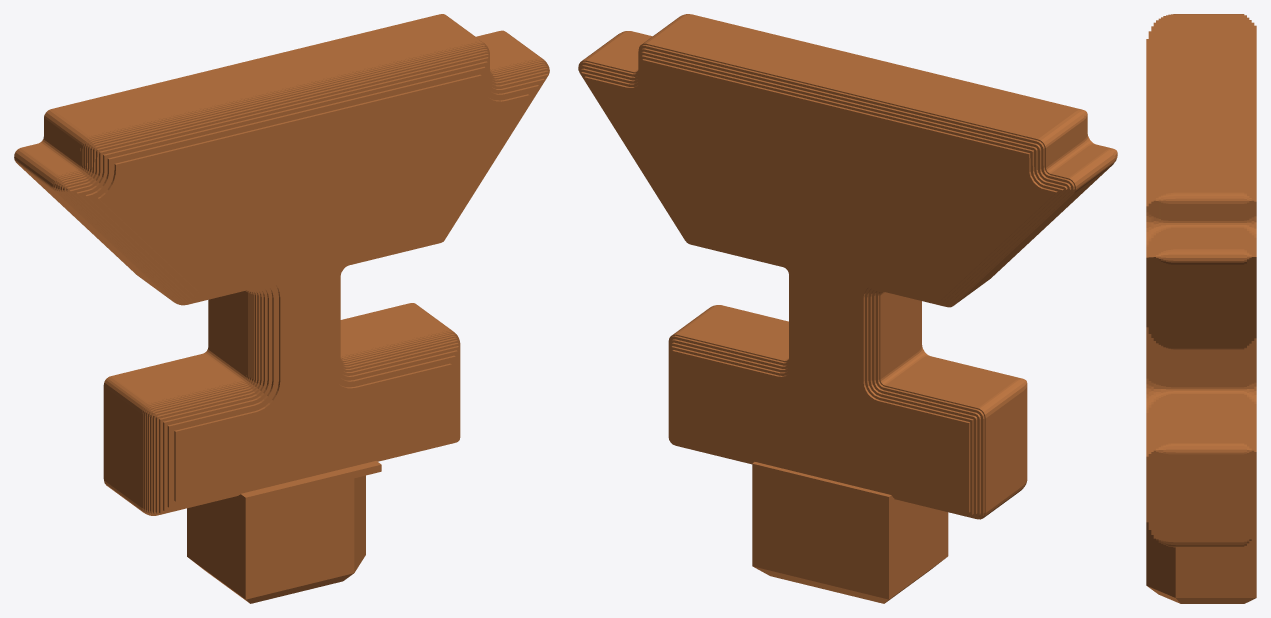
File: glyph-metal@metal.glb
The picture shows the model from 3 angles, left to right: view 1: azimuth 30°, elevation 25°; view 2: azimuth 150°, elevation 25°; view 3: azimuth 270°, elevation 25°; orthographic projection. The views are drawn at different scales.
Visible parts, largest first — view 1: geometry_0; view 2: geometry_0; view 3: geometry_0.
Part boxes in pixels (x1,y1,x2,y2): geometry_0: (14, 14, 549, 603); geometry_0: (578, 14, 1117, 603); geometry_0: (1146, 14, 1256, 603).
Size of the model in its own units: 21.82 by 21.04 by 4.5.
